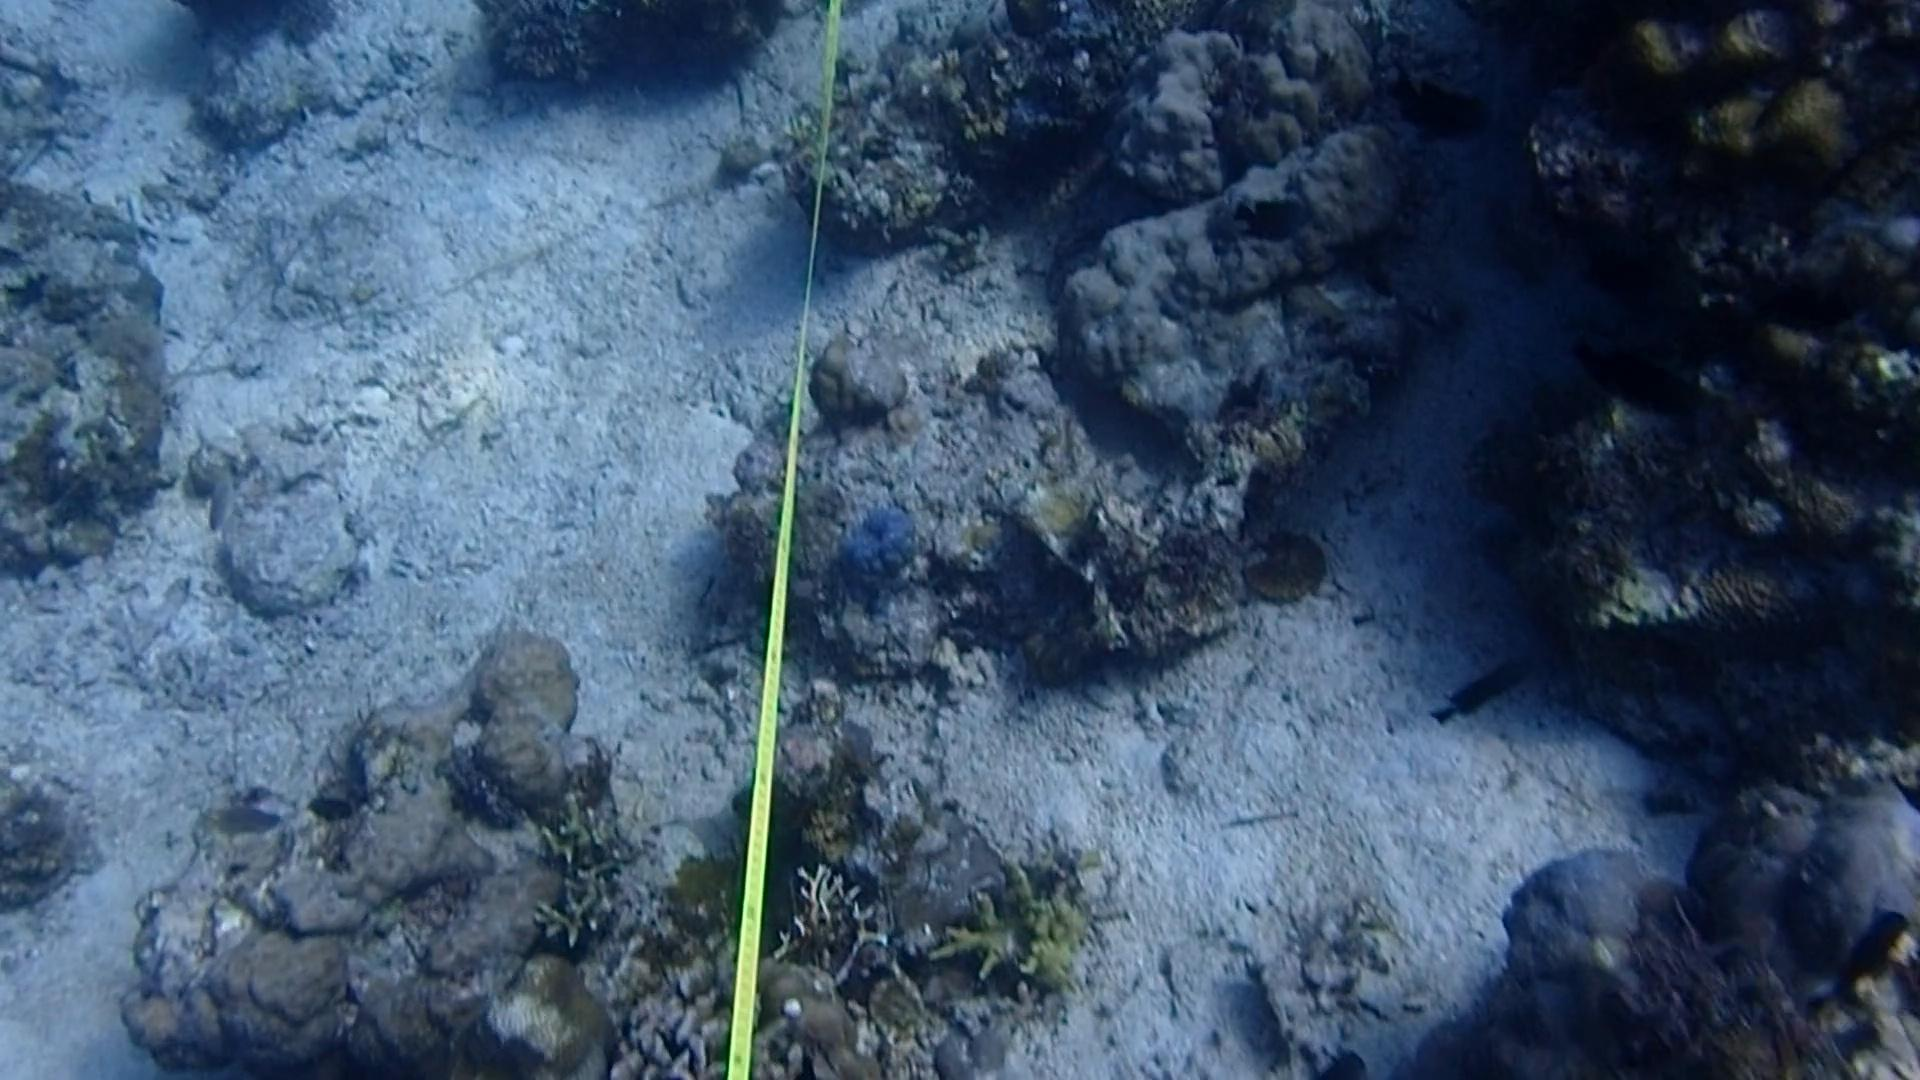Dark Fish: (1571, 318, 1727, 430), (1414, 644, 1557, 740), (1797, 901, 1915, 1017), (1381, 55, 1499, 152), (1220, 189, 1324, 260)
Light Fish: (202, 458, 255, 537)
